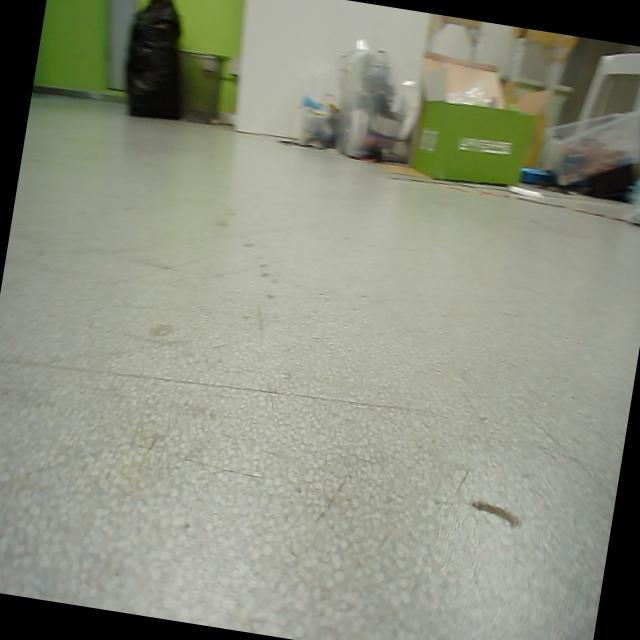xiaoba: (624, 157, 640, 236)
